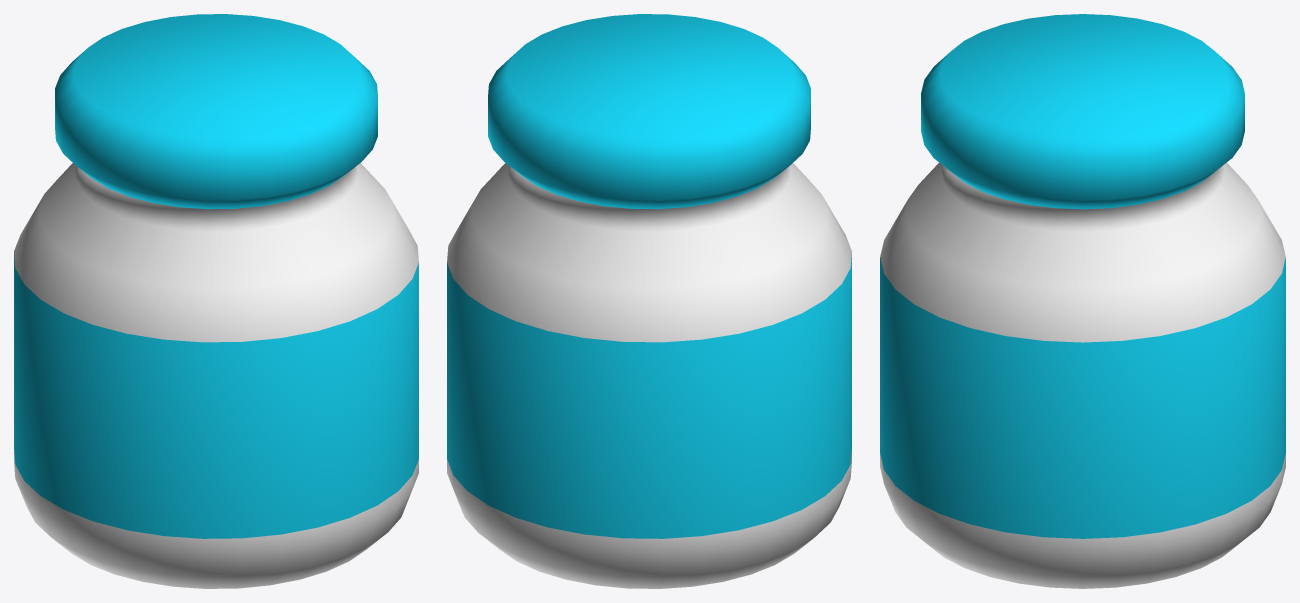
File: Mayonnaise.fbx
3 renders of one model, left to right at view 1: azimuth 30°, elevation 25°; view 2: azimuth 150°, elevation 25°; view 3: azimuth 270°, elevation 25°, orthographic.
Parts seen in each view (by area): view 1: MayonnaiseMesh; view 2: MayonnaiseMesh; view 3: MayonnaiseMesh.
Part boxes in pixels (box(x1,y1,x2,y2)): MayonnaiseMesh: box(14, 14, 418, 588); MayonnaiseMesh: box(447, 14, 851, 588); MayonnaiseMesh: box(880, 14, 1285, 588).
Size of the model in its own units: 0.4768 by 0.5893 by 0.4768.
